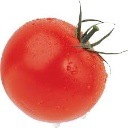tomato: (1, 18, 113, 123)
